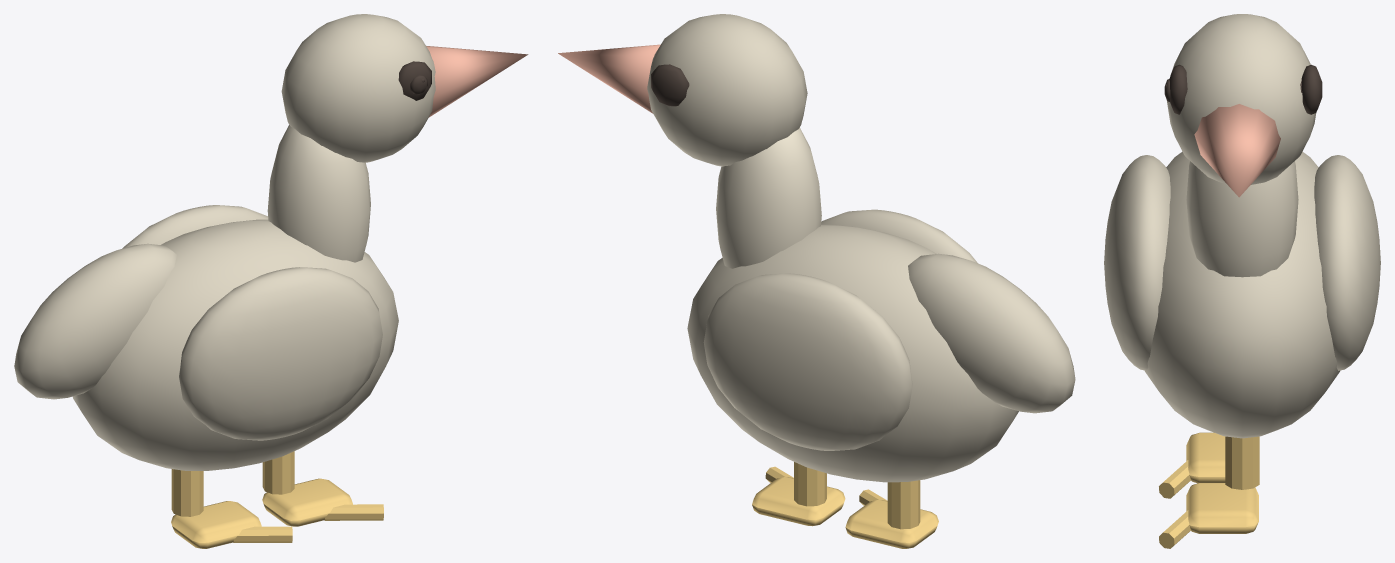
The model's file is sokpop_gatherer.glb.
3 views of the same model, side by side, from view 1: azimuth 30°, elevation 25°; view 2: azimuth 150°, elevation 25°; view 3: azimuth 270°, elevation 25° (orthographic). The views are drawn at different scales.
Visible parts, largest first — view 1: sokpop_gatherer_root; view 2: sokpop_gatherer_root; view 3: sokpop_gatherer_root.
Part boxes in pixels (box(x1,y1,x2,y2)): sokpop_gatherer_root: box(14, 14, 528, 548); sokpop_gatherer_root: box(558, 14, 1075, 548); sokpop_gatherer_root: box(1104, 14, 1380, 548).
Size of the model in its own units: 1.91 by 1.7 by 0.8015.
